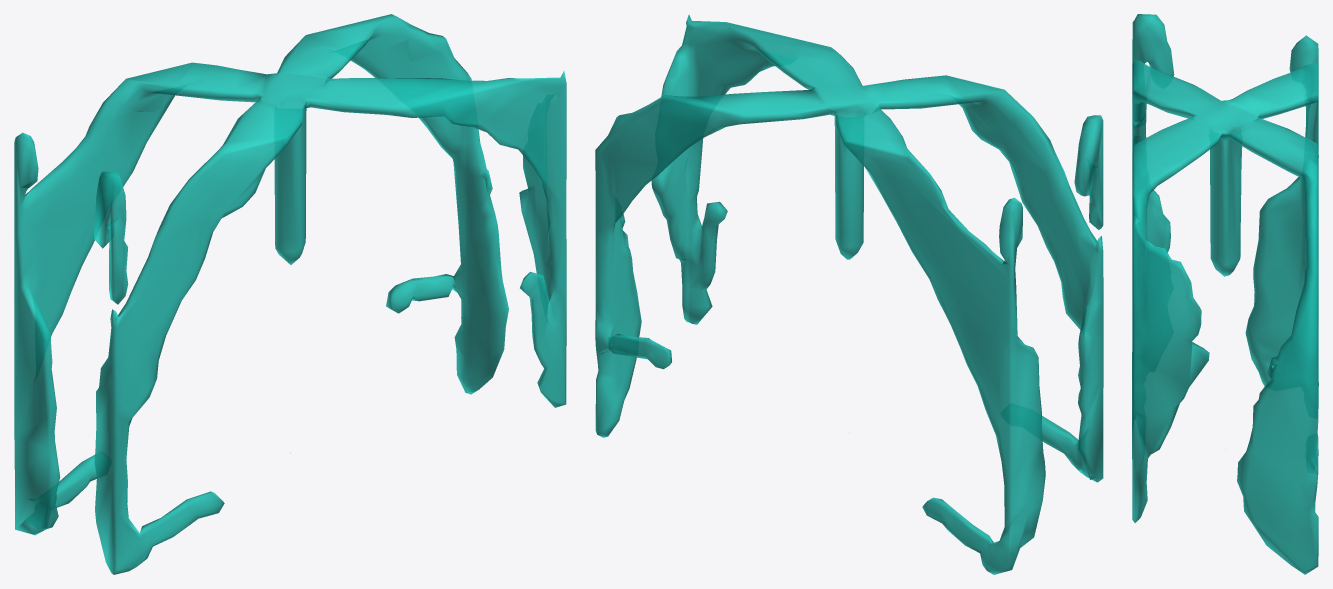
The picture shows the model from 3 angles, left to right: view 1: azimuth 30°, elevation 25°; view 2: azimuth 150°, elevation 25°; view 3: azimuth 270°, elevation 25°; orthographic projection. The views are drawn at different scales.
Visible parts, largest first — view 1: Liquid_Domain; view 2: Liquid_Domain; view 3: Liquid_Domain.
Part boxes in pixels (<box>): Liquid_Domain: <box>14,14,566,574</box>; Liquid_Domain: <box>595,14,1103,574</box>; Liquid_Domain: <box>1132,14,1318,574</box>.
Size of the model in its own units: 885 by 810 by 345.
